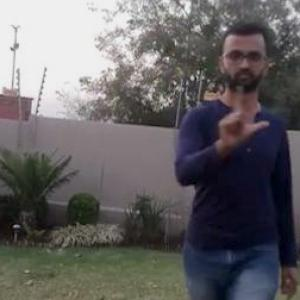land_hand: (209, 78, 274, 154)
